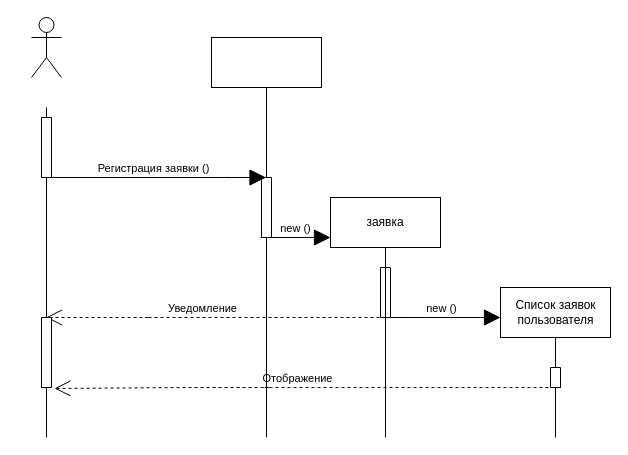
This 628x455 diagram has some shape labels left out. Each missing label, with the centre of its shape:
"Сотрудник" goes at point (46, 47).
"Форма регистрации заявки" goes at point (266, 62).
